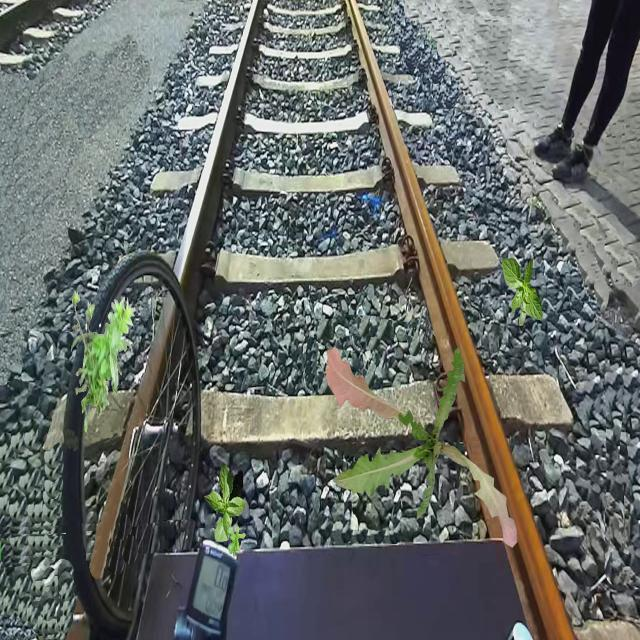Plant: (325, 346, 518, 548), (71, 289, 136, 432), (204, 462, 246, 542), (501, 256, 542, 327), (228, 525, 246, 557)
